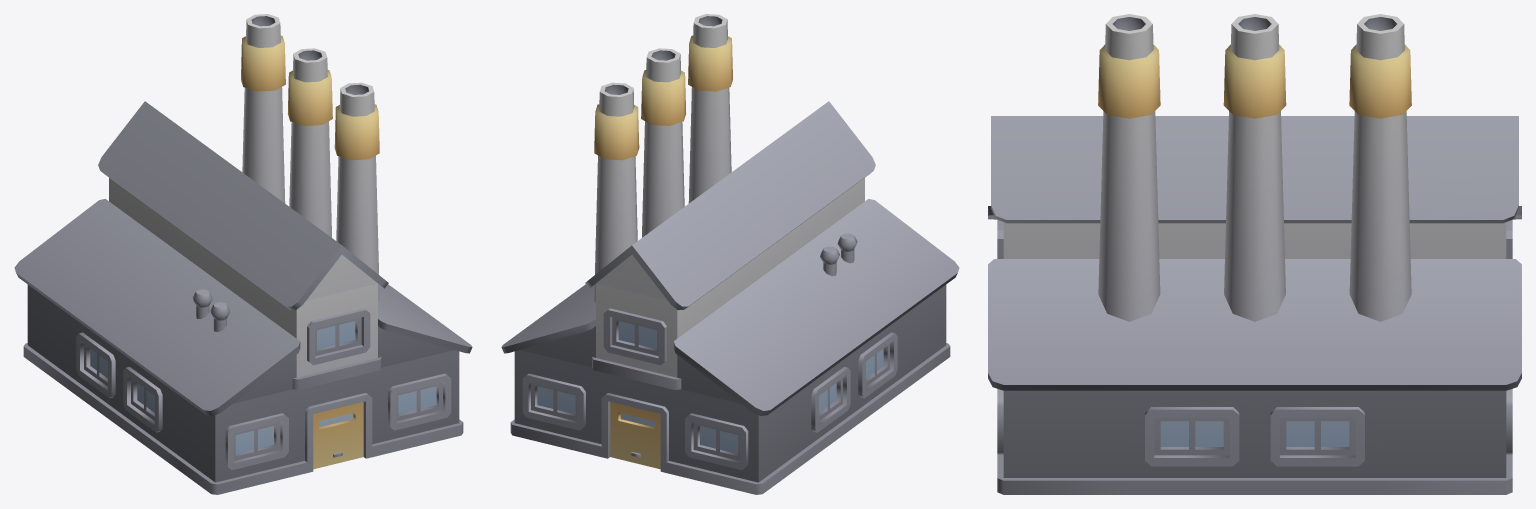
3 views of the same model, side by side, from view 1: azimuth 30°, elevation 25°; view 2: azimuth 150°, elevation 25°; view 3: azimuth 270°, elevation 25° (orthographic). The views are drawn at different scales.
Bounding box in the file's own units: 10.53 × 12.15 × 13.6.
